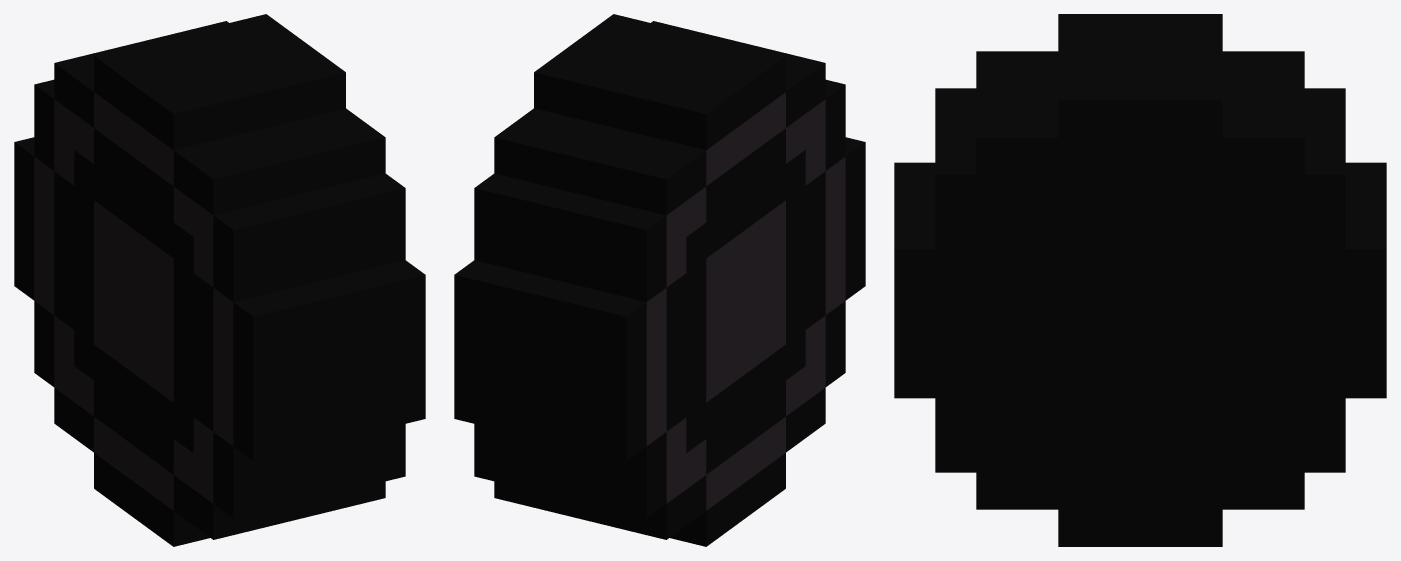
Rendered from CarDamaged-0.obj.
The picture shows the model from 3 angles, left to right: view 1: azimuth 30°, elevation 25°; view 2: azimuth 150°, elevation 25°; view 3: azimuth 270°, elevation 25°; orthographic projection. The views are drawn at different scales.
Bounding box in the file's own units: 0.5 × 1.2 × 1.2.
1 material, 1 textured.
